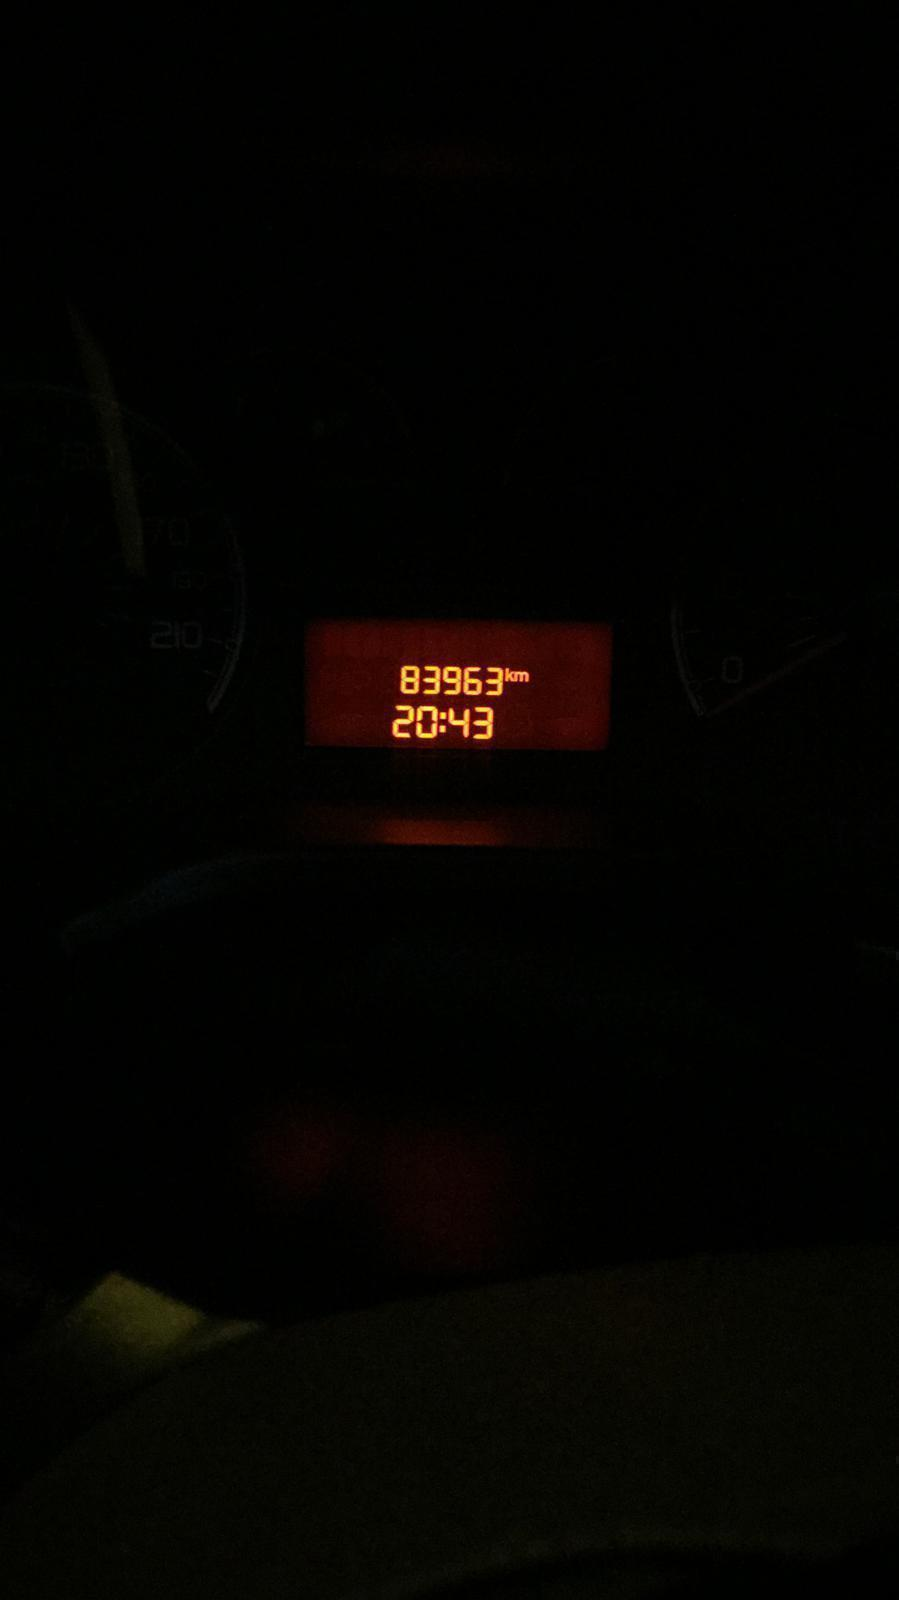0: (417, 704, 437, 738)
2: (392, 703, 414, 738)
3: (471, 705, 493, 741), (422, 663, 439, 696), (486, 666, 502, 696)
4: (448, 705, 470, 738)
6: (463, 665, 482, 695)
8: (400, 664, 419, 695)
9: (442, 665, 460, 696)
X: (513, 670, 530, 684), (439, 709, 446, 734), (504, 666, 513, 684)
odometer: (302, 618, 612, 751)
